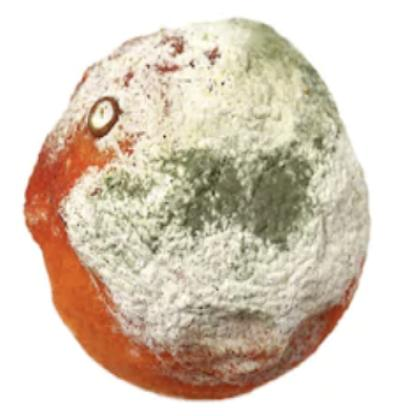rotten: (29, 19, 371, 402)
